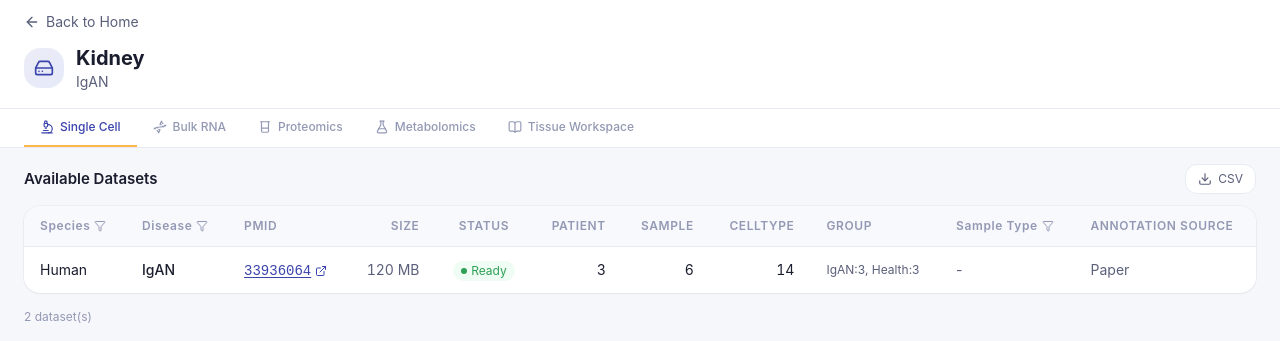
Test: TissuePage — load failure vs. genuinely empty tissue › does not warn about an unreadable row that is not in the visible tab
Expected: the button "33936064" is shown, left=244, top=260, right=327, bottom=280
Expected: the text "could not be read" is not shown
Click the button "Bulk RNA" at (189, 128), box left=137, top=109, right=242, bottom=147
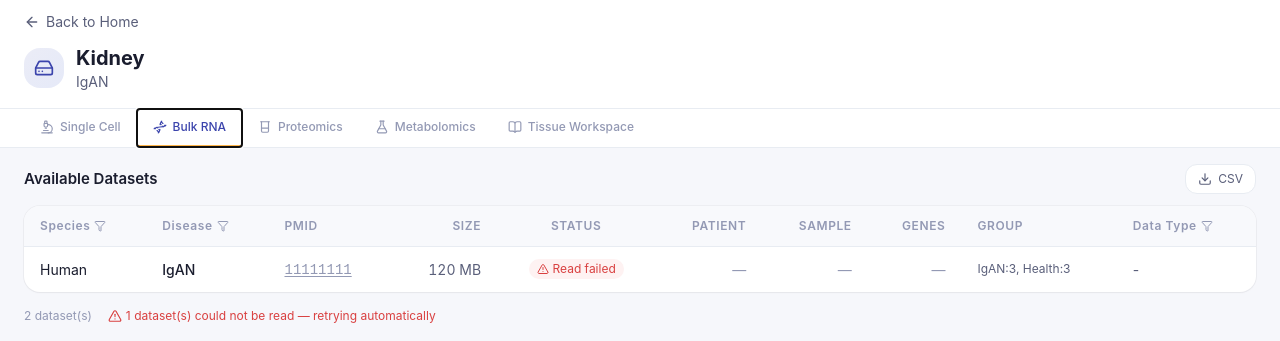
Result: the text "1 dataset(s) could not be read — retrying automatically" is shown at left=108, top=308, right=436, bottom=324
